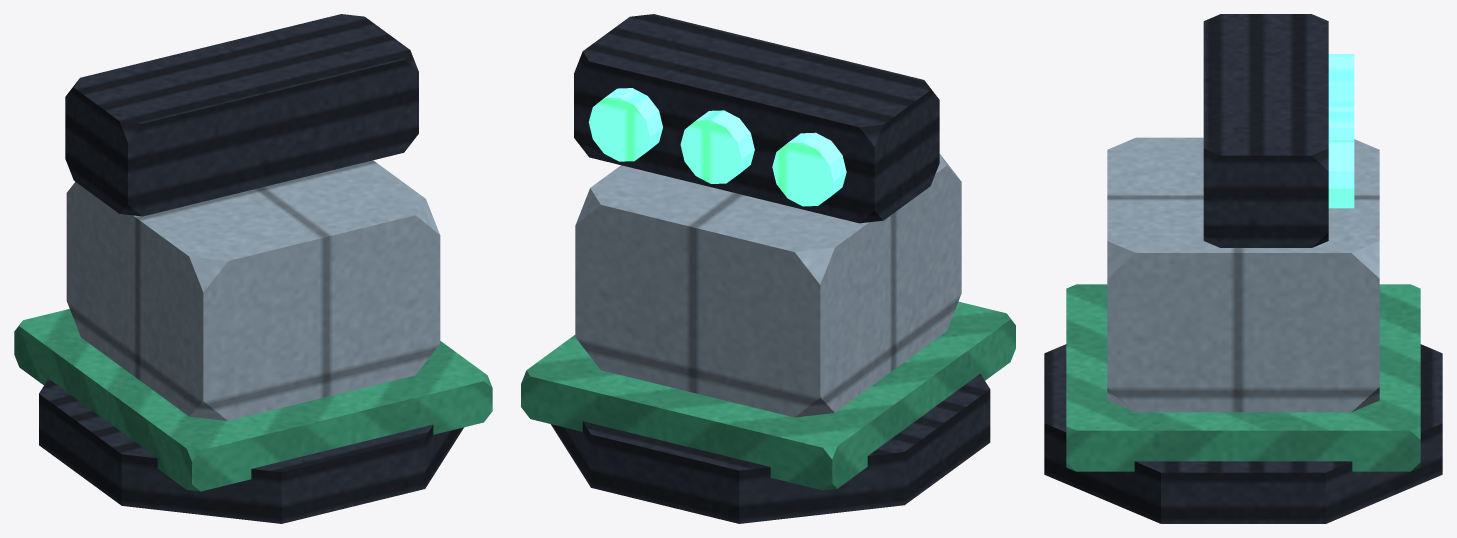
The model's file is eq_resource_scanner.glb.
The picture shows the model from 3 angles, left to right: view 1: azimuth 30°, elevation 25°; view 2: azimuth 150°, elevation 25°; view 3: azimuth 270°, elevation 25°; orthographic projection. The views are drawn at different scales.
Visible parts, largest first — view 1: eq_resource_scanner; view 2: eq_resource_scanner; view 3: eq_resource_scanner.
Boxes of the visible parts, box(x1,y1,x2,y2) form: eq_resource_scanner: box(14, 14, 492, 523); eq_resource_scanner: box(521, 14, 1015, 523); eq_resource_scanner: box(1044, 14, 1442, 523).
Bounding box in the file's own units: 1.4 × 1.38 × 1.4.
1 material, 1 textured.
